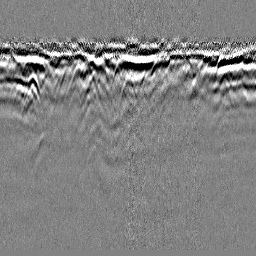cavity: (119, 72, 138, 104)
